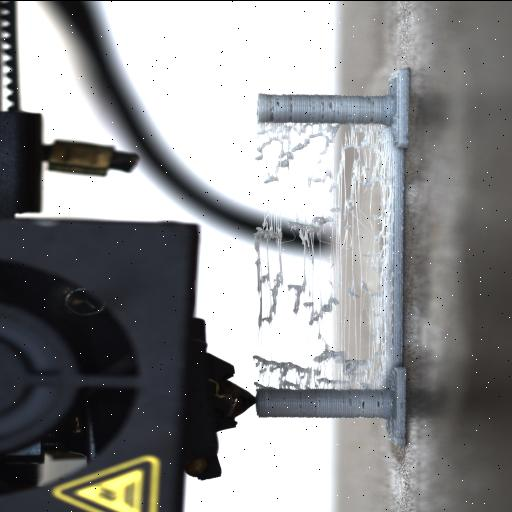stringing: (251, 120, 393, 328), (256, 118, 344, 182), (255, 209, 287, 313)
